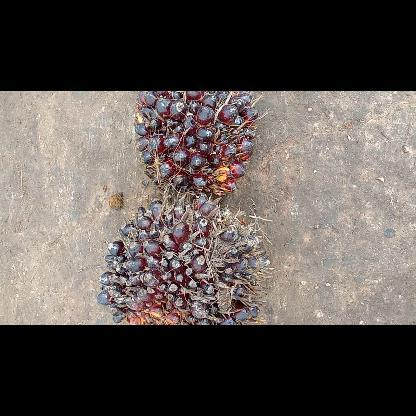TBS mentah: (102, 196, 264, 324), (134, 90, 262, 208)
